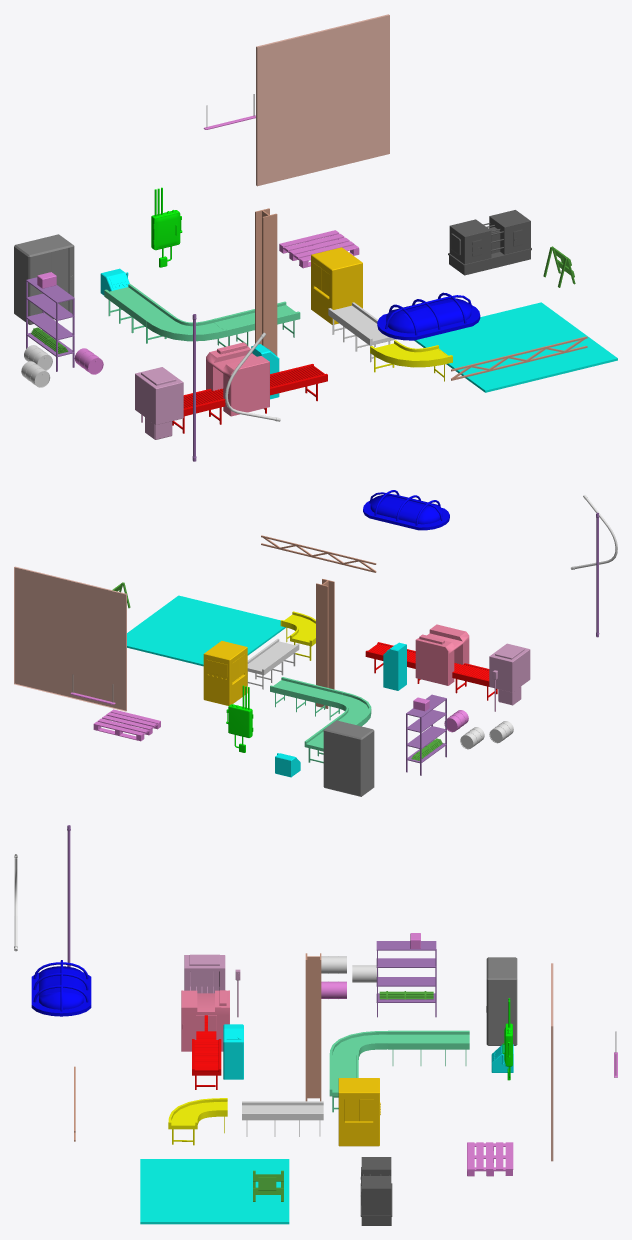
The model's file is Factory Assets 1.fbx.
3 renders of one model, top to bottom at view 1: azimuth 30°, elevation 25°; view 2: azimuth 150°, elevation 25°; view 3: azimuth 270°, elevation 25°, orthographic. The views are drawn at different scales.
Parts seen in each view (by area): view 1: Floor, Wall, Curved_Conveyor, Generator, Elevator2, Conveyor_Upgrader1, Metal_Support, Conveyor_Upgrader2, Conveyor_Starter1, Storage1, Straight_Conveyor1, Lamp_Glass (+6 smaller); view 2: Floor, Wall, Elevator2, Curved_Conveyor, Conveyor_Upgrader1, Conveyor_Upgrader2, Metal_Support, Conveyor_Starter1, Storage1, Lamp_Glass, Straight_Conveyor1, Pallet (+7 smaller); view 3: Wall, Curved_Conveyor, Conveyor_Upgrader2, Elevator2, Metal_Support, Conveyor_Upgrader1, Generator, Storage1, Straight_Conveyor, Conveyor_Starter1, Lamp_Glass, Lamp1 (+7 smaller).
Boxes of the visible parts, left/top/right/bottom form: Floor: left=256, top=14, right=389, bottom=186; Wall: left=414, top=302, right=617, bottom=392; Curved_Conveyor: left=104, top=284, right=300, bottom=346; Generator: left=448, top=210, right=531, bottom=275; Elevator2: left=14, top=234, right=74, bottom=324; Conveyor_Upgrader1: left=206, top=342, right=269, bottom=416; Metal_Support: left=255, top=208, right=277, bottom=356; Conveyor_Upgrader2: left=311, top=247, right=362, bottom=324; Conveyor_Starter1: left=135, top=367, right=183, bottom=439; Storage1: left=26, top=277, right=74, bottom=371; Straight_Conveyor1: left=172, top=364, right=327, bottom=433; Lamp_Glass: left=386, top=298, right=471, bottom=333; Floor: left=14, top=566, right=126, bottom=711; Wall: left=127, top=595, right=285, bottom=666; Elevator2: left=323, top=720, right=374, bottom=796; Curved_Conveyor: left=270, top=677, right=371, bottom=763; Conveyor_Upgrader1: left=415, top=624, right=469, bottom=685; Conveyor_Upgrader2: left=203, top=641, right=247, bottom=705; Metal_Support: left=316, top=579, right=334, bottom=708; Conveyor_Starter1: left=489, top=643, right=530, bottom=705; Storage1: left=406, top=694, right=446, bottom=775; Lamp_Glass: left=370, top=494, right=442, bottom=524; Straight_Conveyor1: left=365, top=642, right=497, bottom=700; Pallet: left=93, top=709, right=160, bottom=741; Wall: left=140, top=1159, right=289, bottom=1224; Curved_Conveyor: left=329, top=1030, right=469, bottom=1112; Conveyor_Upgrader2: left=338, top=1078, right=380, bottom=1146; Elevator2: left=486, top=957, right=517, bottom=1045; Metal_Support: left=305, top=953, right=321, bottom=1101; Conveyor_Upgrader1: left=181, top=990, right=229, bottom=1051; Generator: left=360, top=1157, right=392, bottom=1225; Storage1: left=376, top=941, right=436, bottom=1017; Straight_Conveyor: left=242, top=1101, right=323, bottom=1136; Conveyor_Starter1: left=184, top=954, right=225, bottom=993; Lamp_Glass: left=39, top=966, right=83, bottom=1009; Lamp1: left=31, top=960, right=91, bottom=1016.
Size of the model in its own units: 18.87 by 6.79 by 19.57.
